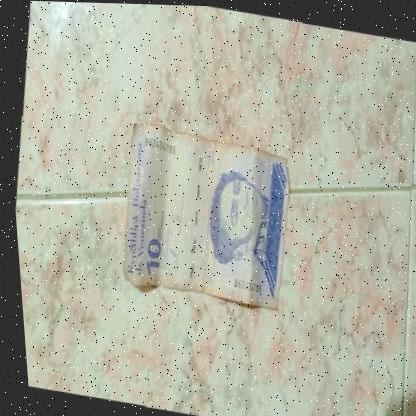ten-front-vef: (103, 119, 299, 316)
